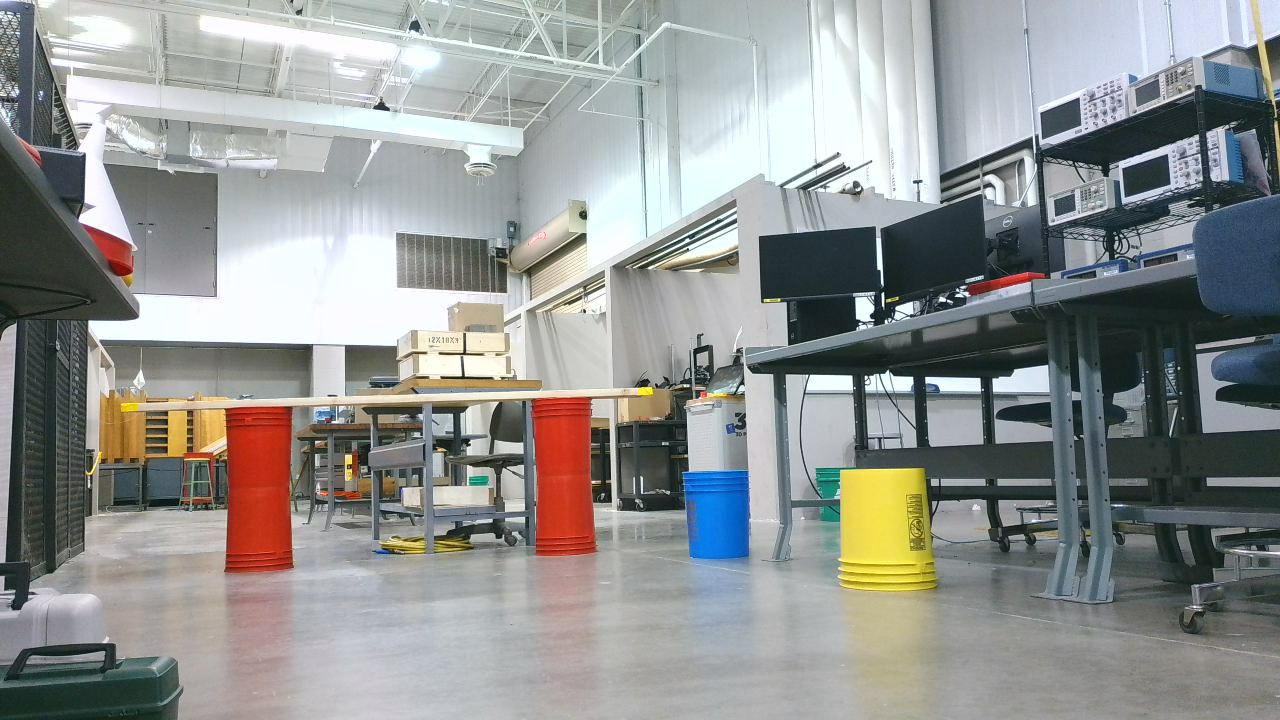blue_bucket: (682, 472, 760, 568)
red_bucket_arch: (225, 390, 608, 585)
yellow_bucket: (838, 471, 945, 599)
